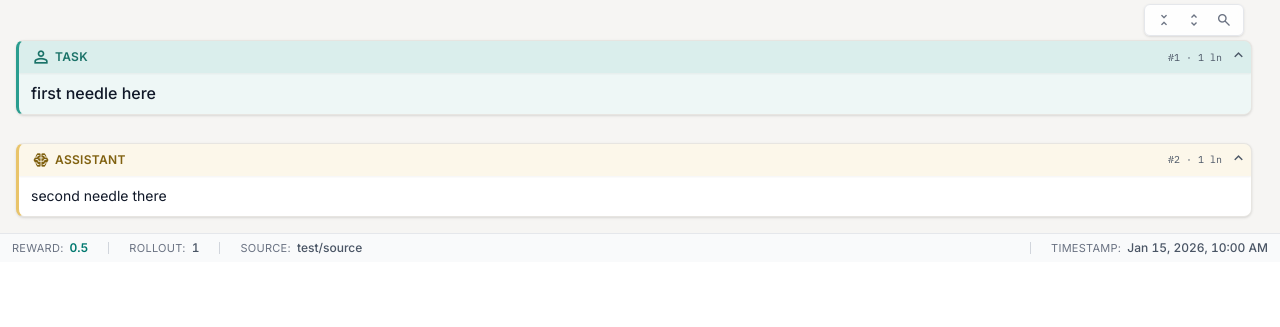
it: ChatView local search navigation › Enter scrolls to the next match mark and styles it as current
Click the button named "Search chat": point(1224, 20) [1211,7,1237,33]
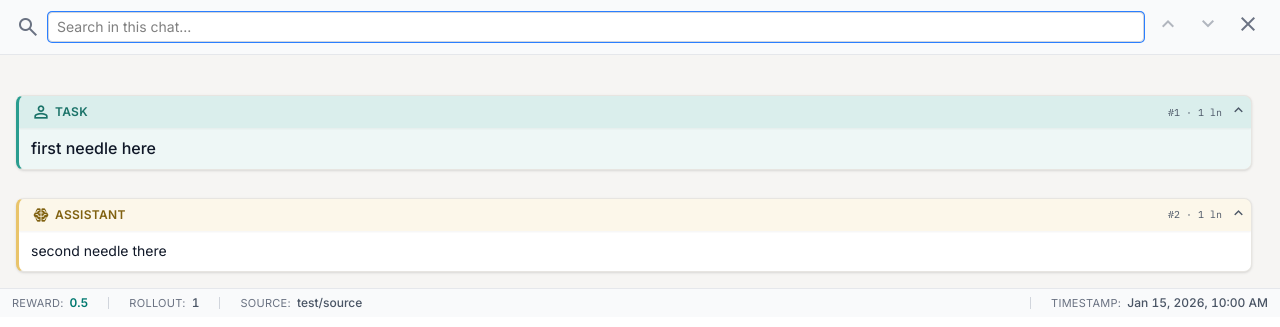
In the field with placeholder "Search in this chat...": point(596, 27) [48,12,1144,42], type "needle"
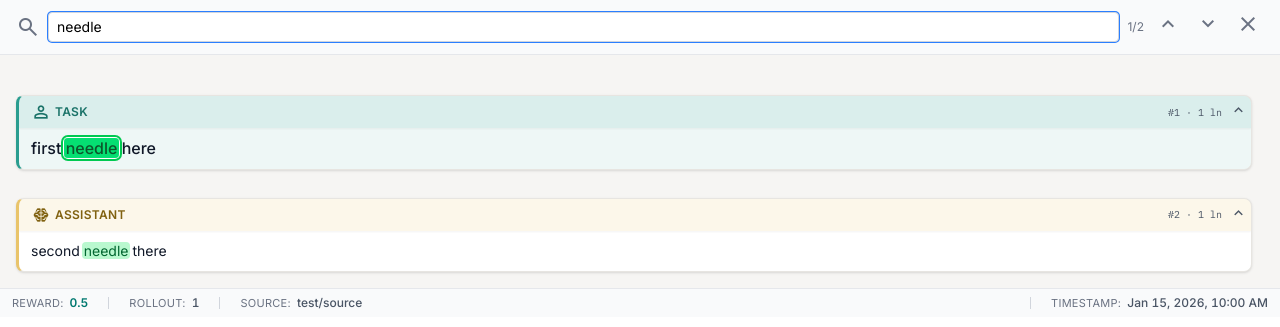
Press Enter in the field with placeholder "Search in this chat...", box [48,12,1119,42]
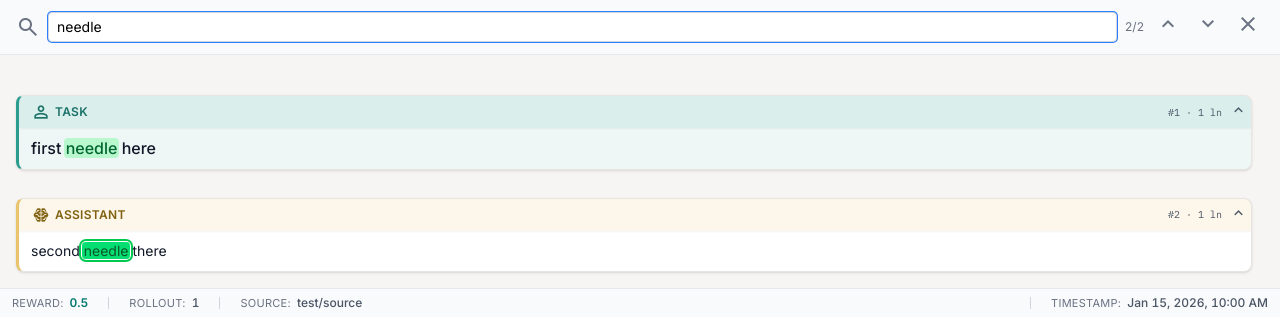
Now the text "2/2" is shown, box [1125,19,1144,35]
